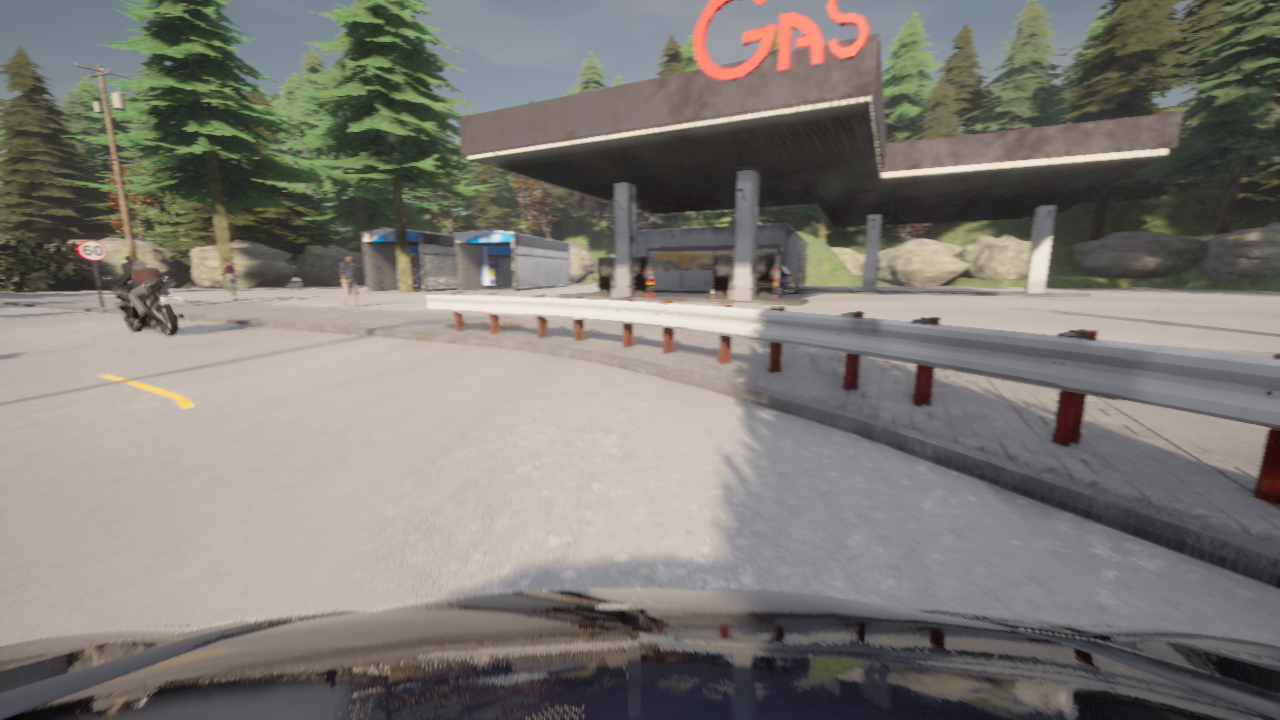cyclist: (0, 588, 1279, 719), (102, 275, 184, 336), (754, 265, 794, 296)
pedestrian: (339, 254, 359, 305), (220, 257, 238, 300), (121, 255, 130, 274)
